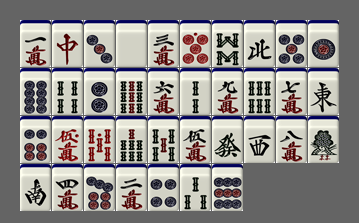0m: (52, 116, 83, 163)
0p: (180, 20, 211, 67)
0s: (84, 116, 115, 163)
1m: (20, 20, 51, 67)
1p: (308, 20, 339, 67)
1s: (308, 116, 339, 163)
1z: (308, 68, 339, 115)
2m: (116, 164, 147, 211)
2p: (84, 68, 115, 115)
2s: (180, 68, 211, 115)
2z: (20, 164, 51, 211)
3m: (148, 20, 179, 67)
3p: (84, 20, 115, 67)
3s: (180, 164, 211, 211)
3z: (244, 116, 275, 163)
4m: (52, 164, 83, 211)
4p: (148, 164, 179, 211)
4s: (52, 68, 83, 115)
4z: (244, 20, 275, 67)
5m: (180, 116, 211, 163)
5p: (276, 20, 307, 67)
5s: (148, 116, 179, 163)
5z: (116, 20, 147, 67)
6m: (148, 68, 179, 115)
6p: (20, 116, 51, 163)
6s: (244, 68, 275, 115)
6z: (212, 116, 243, 163)
7m: (276, 68, 307, 115)
7p: (84, 164, 115, 211)
7s: (116, 116, 147, 163)
7z: (52, 20, 83, 67)
8m: (276, 116, 307, 163)
8p: (20, 68, 51, 115)
8s: (212, 20, 243, 67)
9m: (212, 68, 243, 115)
9p: (212, 164, 243, 211)
9s: (116, 68, 147, 115)
